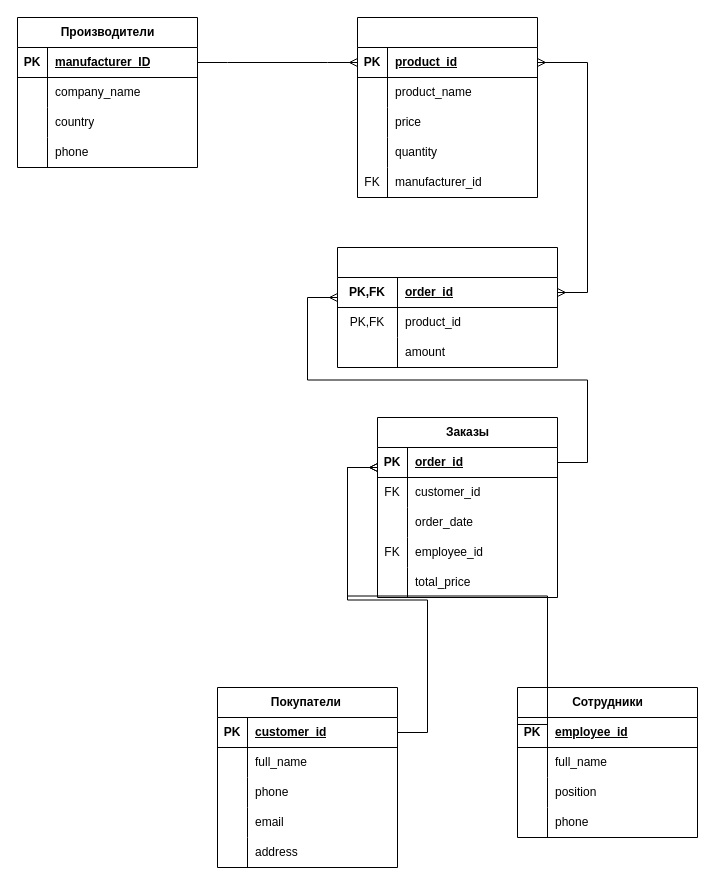
Some shapes in this 715 by 885 pixel diagram are drawn without their labels. The shapes that lost their labels are listed below. From the top down, each one's box as (x1, y1, x2, y2) in pixels, then its label:
(356, 16, 538, 198): Товары
(336, 246, 558, 368): Состав заказа
